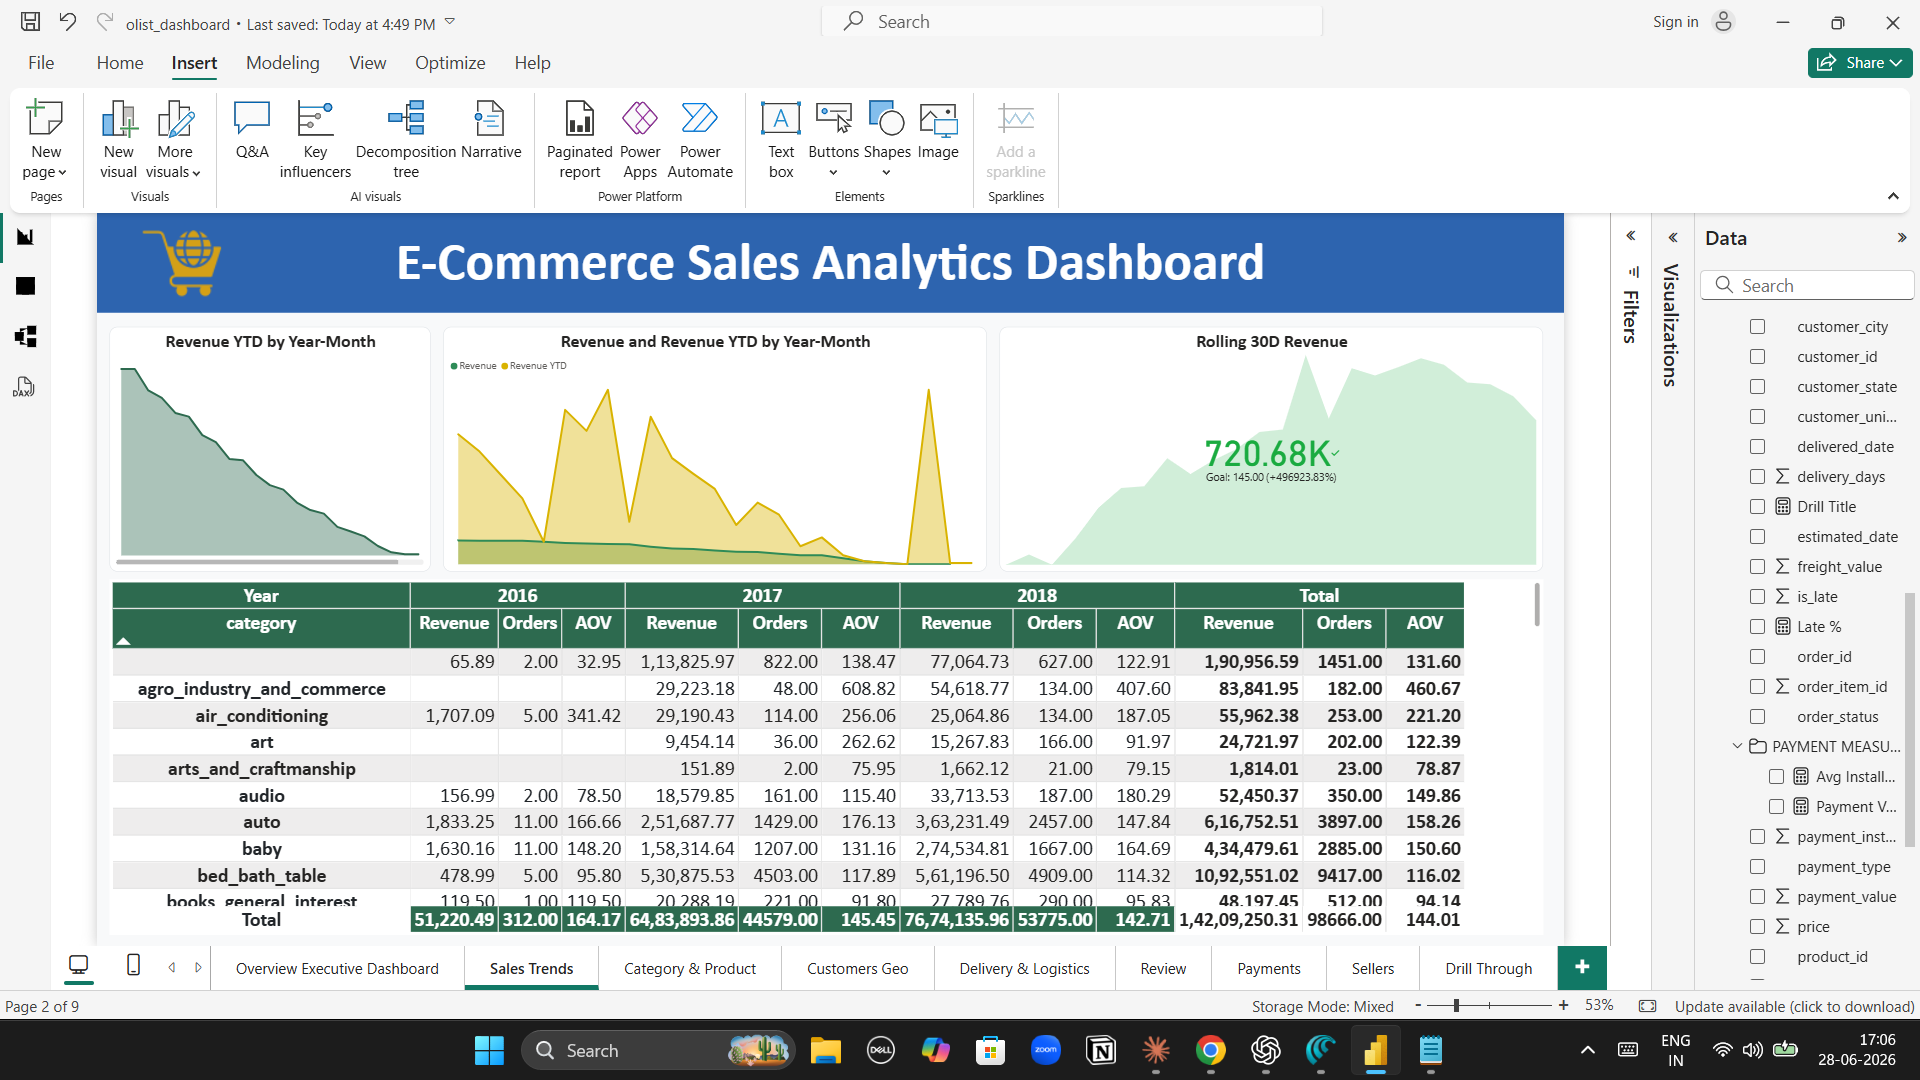

This screenshot's page, from the dashboard's own definition file:
{"tool":"powerbi","page":{"name":"Sales Trends","canvas":[2200,1100],"ordinal":1},"visuals":[{"type":"areaChart","fields":{"Category":["DimDate.Year-Month"],"Y":["public bi_fact_sales.Revenue","public bi_fact_sales.Revenue YTD"]},"box":[519.3,170.6,815.4,367.4],"z":0},{"type":"textbox","box":[0,0,2200.8,150],"z":1000},{"type":"image","box":[63.7,9.4,127.5,131.2],"z":2000},{"type":"kpi","title":"Rolling 30D Revenue","fields":{"TrendLine":["DimDate.Year-Month"],"Indicator":["public bi_fact_sales.Rolling 30D Revenue"],"Goal":["public bi_fact_sales.Revenue"]},"box":[1353.4,170.6,815.4,367.4],"z":3000},{"type":"pivotTable","fields":{"Values":["public bi_fact_sales.Revenue","public bi_fact_sales.Orders","public bi_fact_sales.AOV"],"Rows":["public bi_fact_sales.category"],"Columns":["DimDate.Year"]},"box":[18,549.6,2150.4,533.6],"z":4000},{"type":"areaChart","fields":{"Category":["DimDate.Year-Month"],"Y":["public bi_fact_sales.Revenue YTD"]},"box":[18.7,170.6,481.8,367.4],"z":5000}]}

Visuals, with their boxes on the page's 2200x1100 design canvas (x1, y1, x2, y2). These are canvas units, not pixel positions in the 1920x1080 screenshot, which may show the page scaled, cropped or inside an application window:
areaChart - DimDate.Year-Month x public bi_fact_sales.Revenue: 519,171,1335,538
textbox: 0,0,2201,150
image: 64,9,191,141
"Rolling 30D Revenue" kpi: 1353,171,2169,538
pivotTable - public bi_fact_sales.Revenue x public bi_fact_sales.Orders: 18,550,2168,1083
areaChart - DimDate.Year-Month x public bi_fact_sales.Revenue YTD: 19,171,500,538
